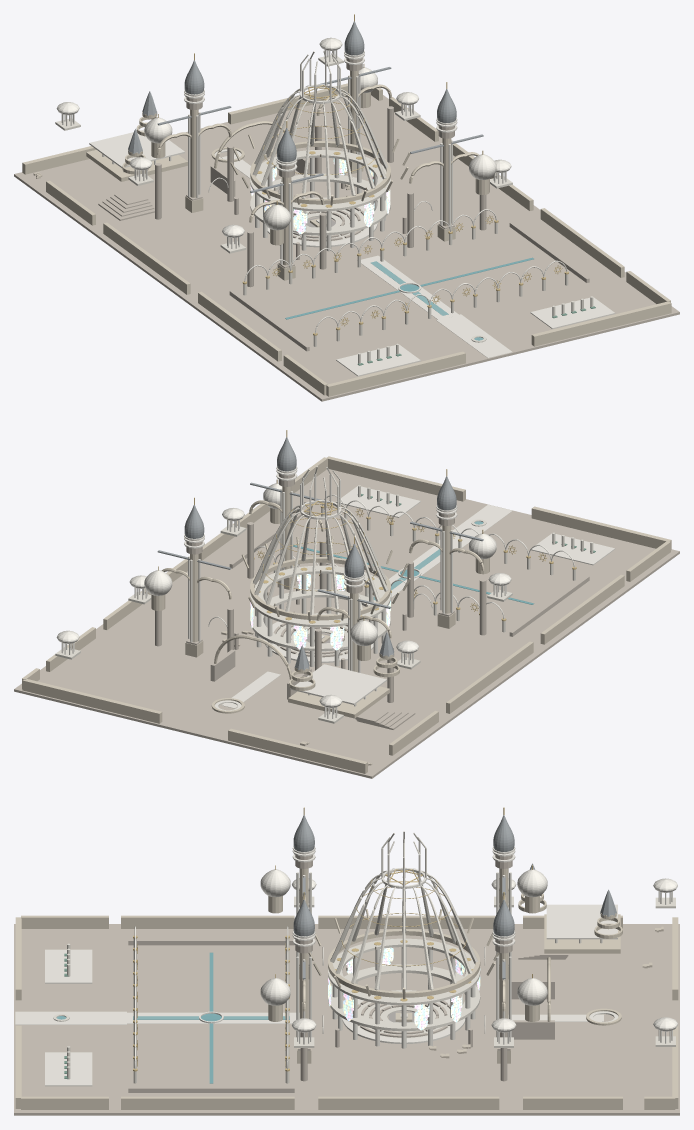
The model's file is temple_full.glb.
3 renders of one model, top to bottom at view 1: azimuth 30°, elevation 25°; view 2: azimuth 150°, elevation 25°; view 3: azimuth 270°, elevation 25°, orthographic. The views are drawn at different scales.
Parts seen in each view (by area): view 1: 00_foundations_batch_aged, 00_foundations_batch_ashlar, 02_communion_crown_batch_marble, 01_courts_water_batch_pale, 02_communion_crown_batch_pale, 03_mont_skyline_batch_pale, 03_mont_skyline_batch_aged, 02_communion_crown_batch_ashlar, 03_mont_skyline_batch_slate, 00_foundations_batch_pale, 03_mont_skyline_batch_ashlar, 01_courts_water_batch_aged (+8 smaller); view 2: 00_foundations_batch_aged, 00_foundations_batch_ashlar, 02_communion_crown_batch_marble, 01_courts_water_batch_pale, 02_communion_crown_batch_pale, 03_mont_skyline_batch_pale, 02_communion_crown_batch_ashlar, 03_mont_skyline_batch_aged, 03_mont_skyline_batch_slate, 03_mont_skyline_batch_ashlar, 00_foundations_batch_pale, 01_courts_water_batch_ashlar (+7 smaller); view 3: 00_foundations_batch_aged, 00_foundations_batch_ashlar, 02_communion_crown_batch_marble, 01_courts_water_batch_pale, 03_mont_skyline_batch_pale, 02_communion_crown_batch_pale, 02_communion_crown_batch_ashlar, 00_foundations_batch_pale, 01_courts_water_batch_aged, 03_mont_skyline_batch_slate, 03_mont_skyline_batch_ashlar, 01_courts_water_batch_ashlar (+8 smaller).
Part boxes in pixels (x1,y1,x2,y2): 00_foundations_batch_aged: [14, 95, 679, 401]; 00_foundations_batch_ashlar: [22, 83, 671, 396]; 02_communion_crown_batch_marble: [250, 50, 390, 242]; 01_courts_water_batch_pale: [89, 129, 615, 376]; 02_communion_crown_batch_pale: [188, 58, 452, 265]; 03_mont_skyline_batch_pale: [56, 37, 511, 248]; 03_mont_skyline_batch_aged: [155, 56, 486, 287]; 02_communion_crown_batch_ashlar: [190, 70, 451, 265]; 03_mont_skyline_batch_slate: [128, 21, 483, 192]; 00_foundations_batch_pale: [221, 154, 512, 358]; 03_mont_skyline_batch_ashlar: [122, 84, 489, 245]; 01_courts_water_batch_aged: [210, 158, 589, 351]; 00_foundations_batch_aged: [14, 469, 679, 778]; 00_foundations_batch_ashlar: [22, 456, 671, 773]; 02_communion_crown_batch_marble: [250, 466, 390, 657]; 01_courts_water_batch_pale: [214, 486, 615, 710]; 02_communion_crown_batch_pale: [188, 473, 452, 672]; 03_mont_skyline_batch_pale: [56, 466, 511, 718]; 02_communion_crown_batch_ashlar: [190, 486, 451, 672]; 03_mont_skyline_batch_aged: [155, 472, 486, 702]; 03_mont_skyline_batch_slate: [157, 437, 483, 670]; 03_mont_skyline_batch_ashlar: [151, 500, 489, 690]; 00_foundations_batch_pale: [221, 504, 512, 708]; 01_courts_water_batch_ashlar: [211, 635, 389, 718]; 00_foundations_batch_aged: [14, 924, 679, 1115]; 00_foundations_batch_ashlar: [15, 915, 678, 1109]; 02_communion_crown_batch_marble: [328, 831, 480, 1038]; 01_courts_water_batch_pale: [45, 904, 618, 1086]; 03_mont_skyline_batch_pale: [260, 846, 677, 1044]; 02_communion_crown_batch_pale: [296, 839, 511, 1048]; 02_communion_crown_batch_ashlar: [299, 868, 508, 1037]; 00_foundations_batch_pale: [15, 1011, 603, 1024]; 01_courts_water_batch_aged: [128, 939, 554, 1092]; 03_mont_skyline_batch_slate: [293, 815, 616, 978]; 03_mont_skyline_batch_ashlar: [268, 893, 622, 1021]; 01_courts_water_batch_ashlar: [544, 914, 621, 1025].
Bounding box in the file's own units: 188 × 86.56 × 280.
Materials: 12 (1 with a texture image).
